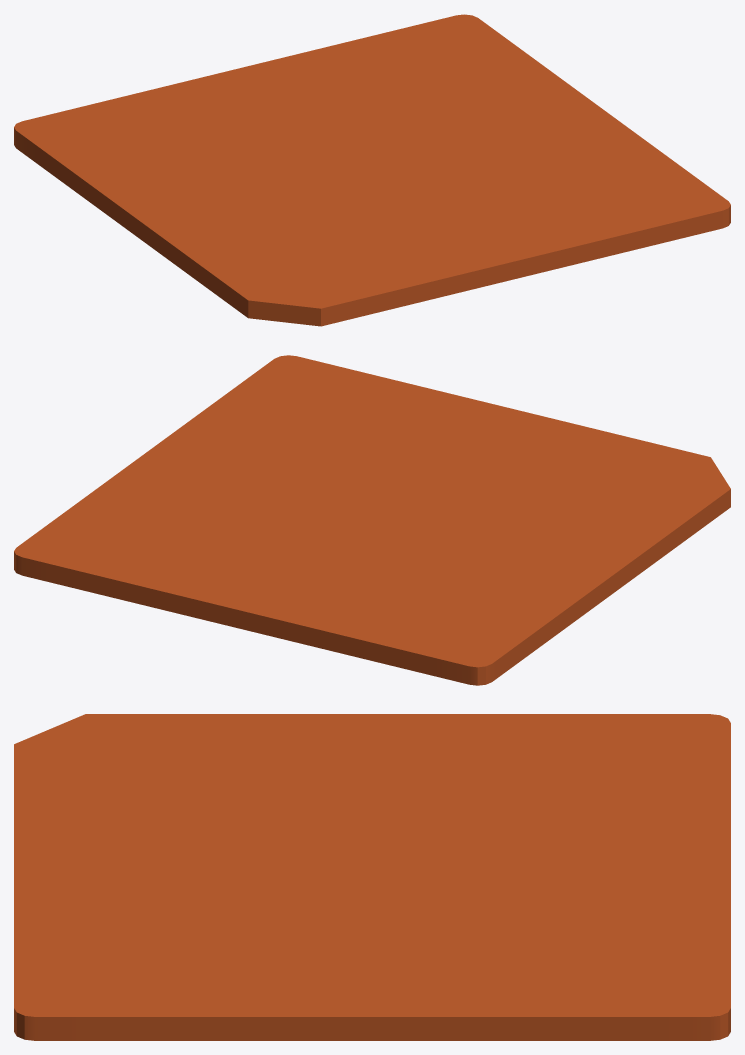
Rendered from C_FloppyDisk.fbx.
The picture shows the model from 3 angles, top to bottom: view 1: azimuth 30°, elevation 25°; view 2: azimuth 150°, elevation 25°; view 3: azimuth 270°, elevation 25°; orthographic projection. The views are drawn at different scales.
Visible parts, largest first — view 1: C_FloppyDisk; view 2: C_FloppyDisk; view 3: C_FloppyDisk.
Boxes of the visible parts, x1=… form: C_FloppyDisk: x1=14, y1=14, x2=730, y2=326; C_FloppyDisk: x1=14, y1=355, x2=730, y2=685; C_FloppyDisk: x1=14, y1=714, x2=730, y2=1040.
Bounding box in the file's own units: 1.44 × 0.0532 × 1.44.
